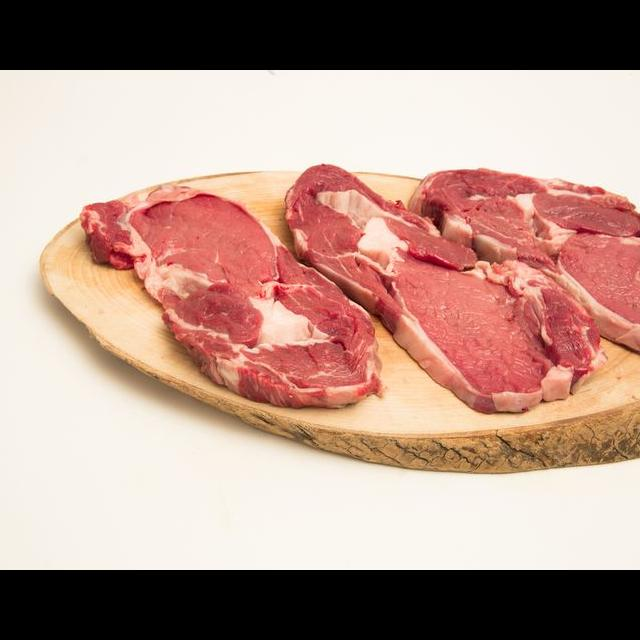beef: (276, 151, 592, 419), (80, 177, 391, 421), (420, 138, 640, 368)
